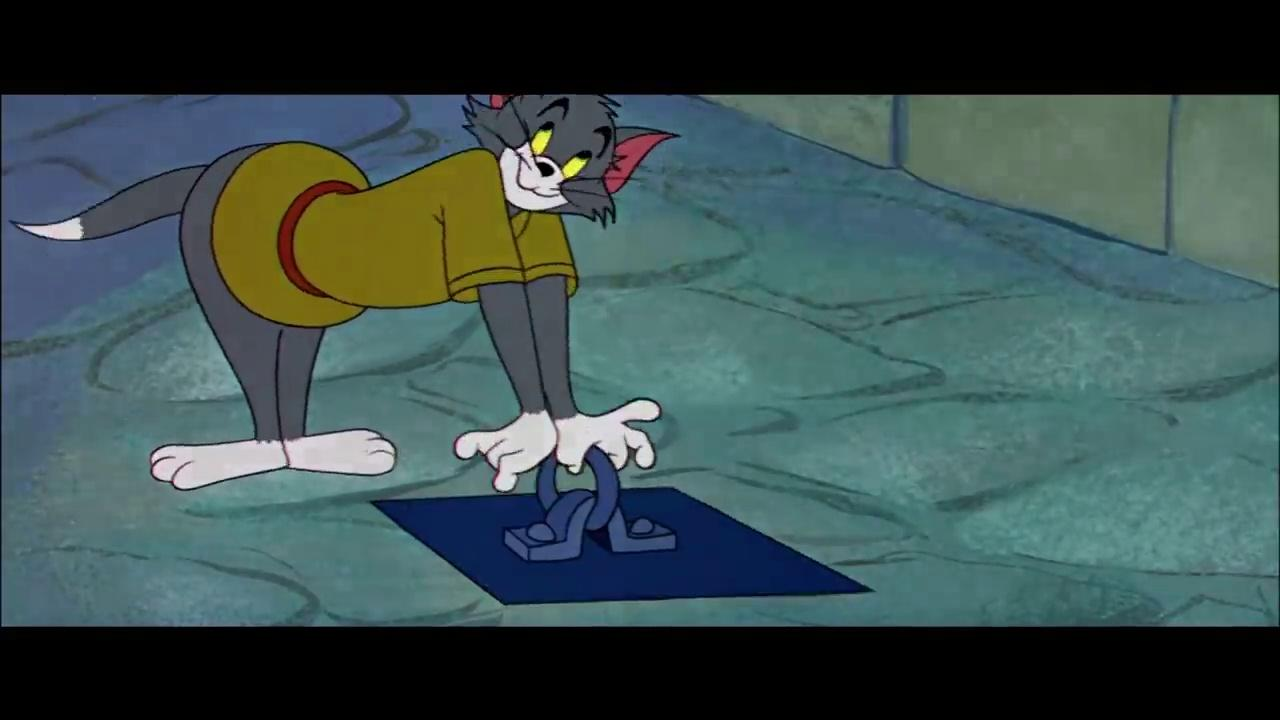Tom: (10, 93, 684, 495)
